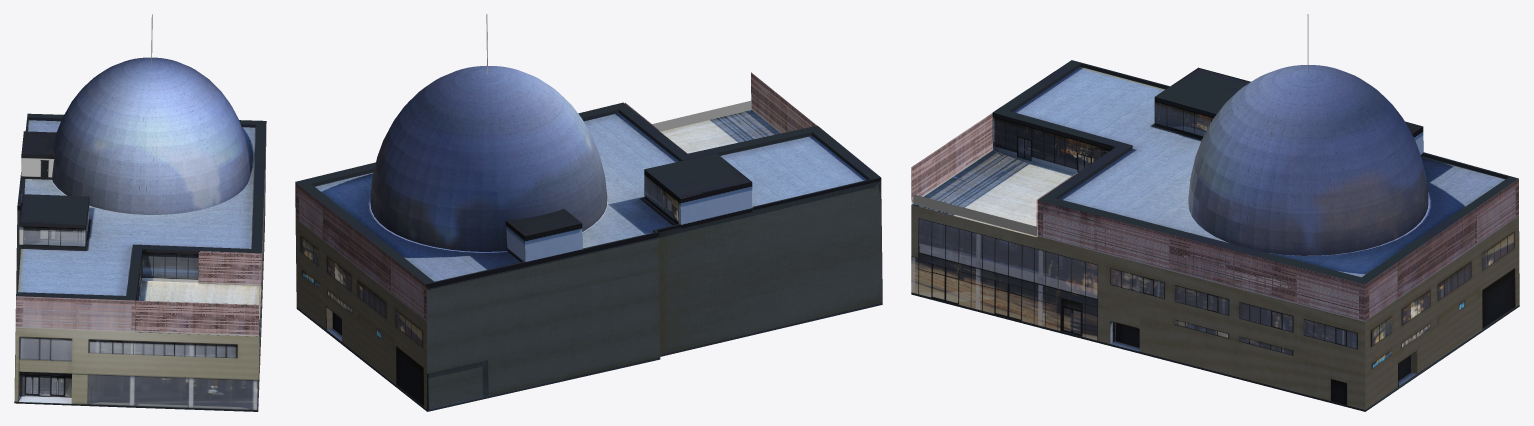
The model's file is sat.DAE.
3 renders of one model, left to right at view 1: azimuth 30°, elevation 25°; view 2: azimuth 150°, elevation 25°; view 3: azimuth 270°, elevation 25°, orthographic. The views are drawn at different scales.
Visible parts, largest first — view 1: Model; view 2: Model; view 3: Model.
Part boxes in pixels (x1,y1,x2,y2): Model: (14,14,266,411); Model: (295,14,882,411); Model: (911,14,1519,411).
Size of the model in its own units: 1827 by 2144 by 1235.
Materials: 15 (7 with a texture image).
